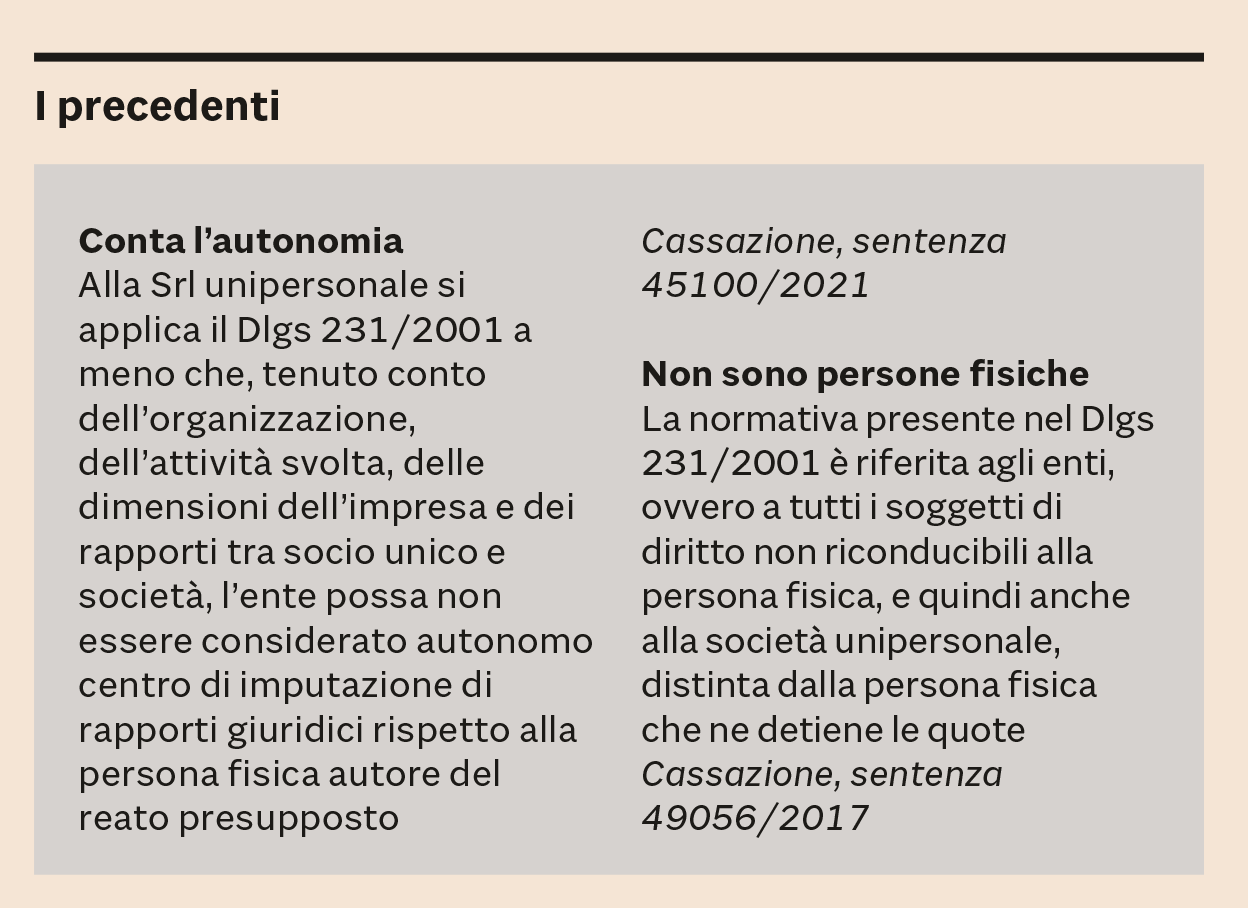scheda-testo-2: (55, 174, 617, 871), (622, 311, 1179, 850)
